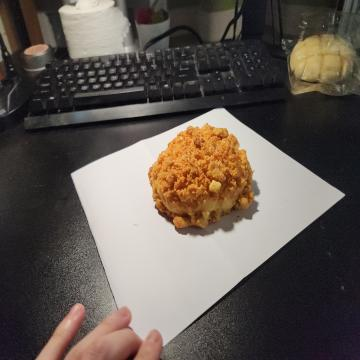soboru_bread: (145, 120, 255, 233)
